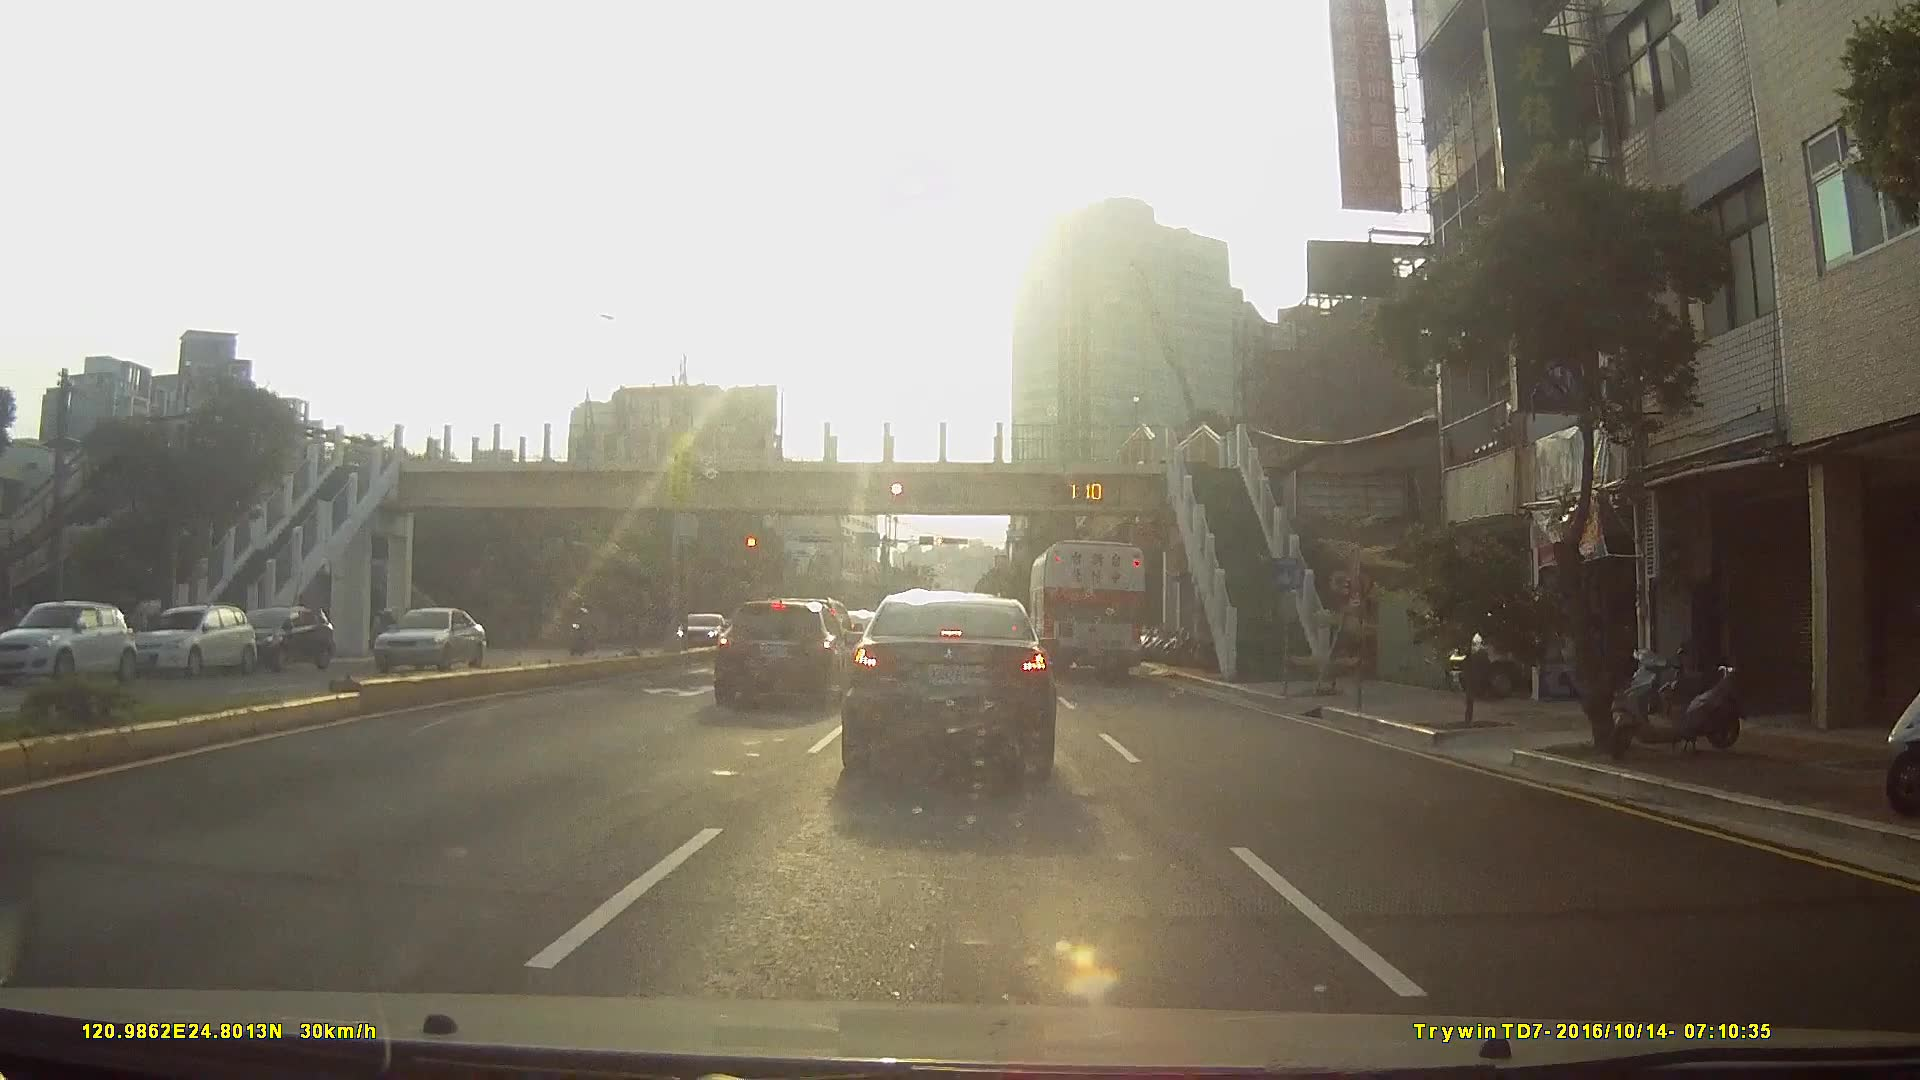rider: (565, 605, 600, 658)
vehicle: (838, 589, 1061, 779), (1027, 537, 1147, 681), (709, 594, 856, 709), (0, 599, 133, 686), (122, 602, 253, 676), (359, 603, 480, 671), (235, 603, 333, 668), (667, 611, 723, 650)
